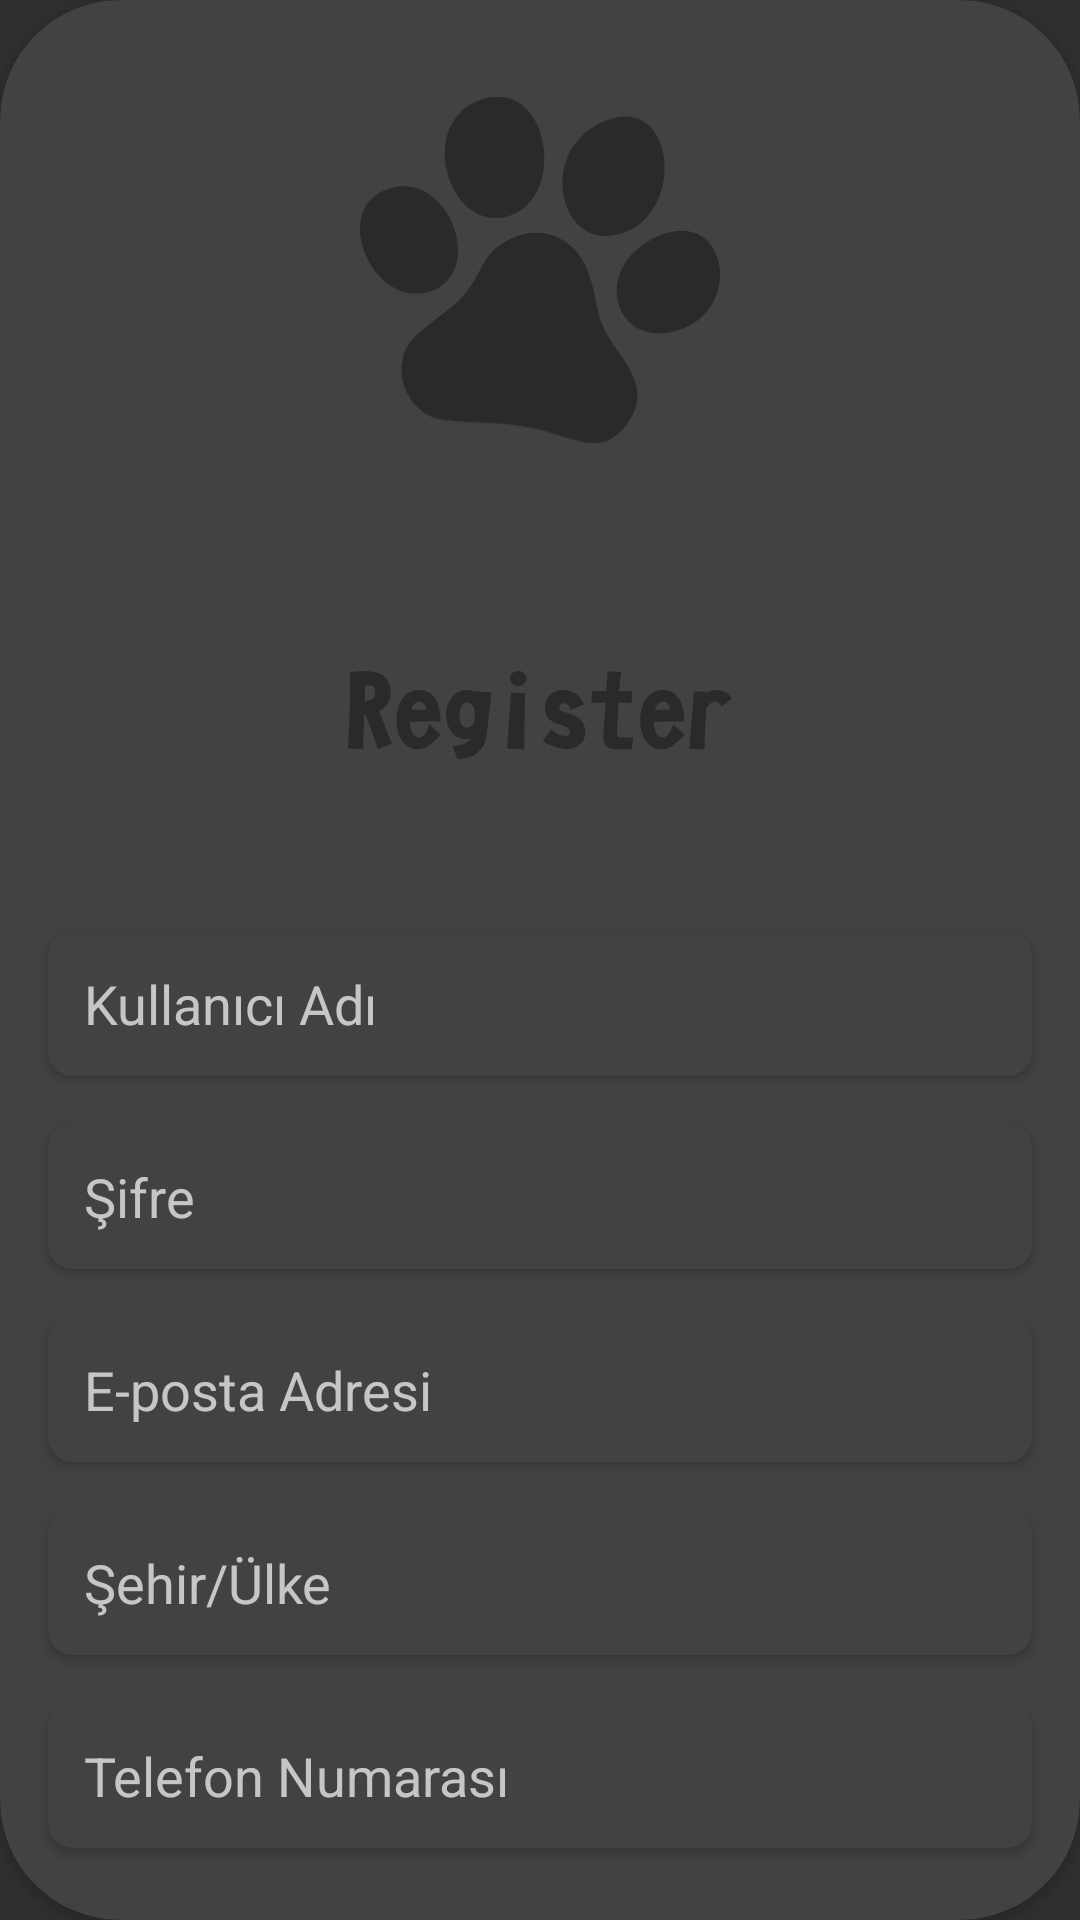

Screen size 1080 x 1920. Icon name, then its center in pixels as (x,y):
pati: (540,270)
